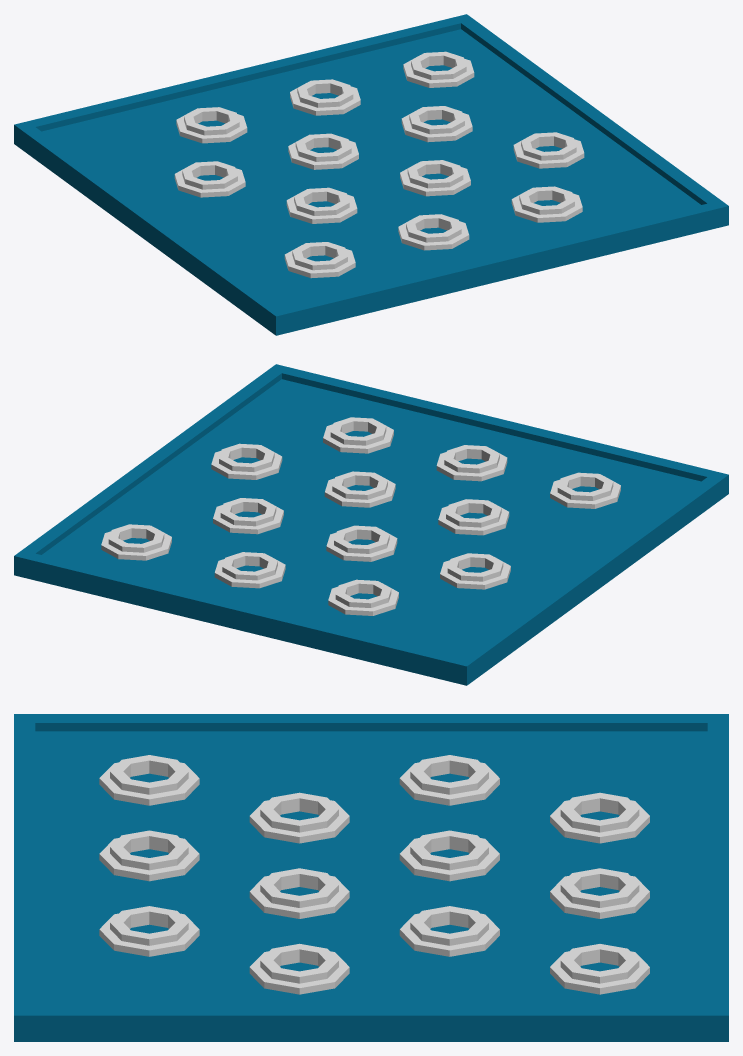
Rendered from Obs_17.fbx.
3 renders of one model, top to bottom at view 1: azimuth 30°, elevation 25°; view 2: azimuth 150°, elevation 25°; view 3: azimuth 270°, elevation 25°, orthographic. The views are drawn at different scales.
Parts seen in each view (by area): view 1: Obs_17; view 2: Obs_17; view 3: Obs_17.
Part boxes in pixels (left/top/right/bottom): Obs_17: left=14, top=14, right=728, bottom=335; Obs_17: left=14, top=364, right=728, bottom=685; Obs_17: left=14, top=714, right=728, bottom=1041.
Size of the model in its own units: 2 by 0.0968 by 2.
